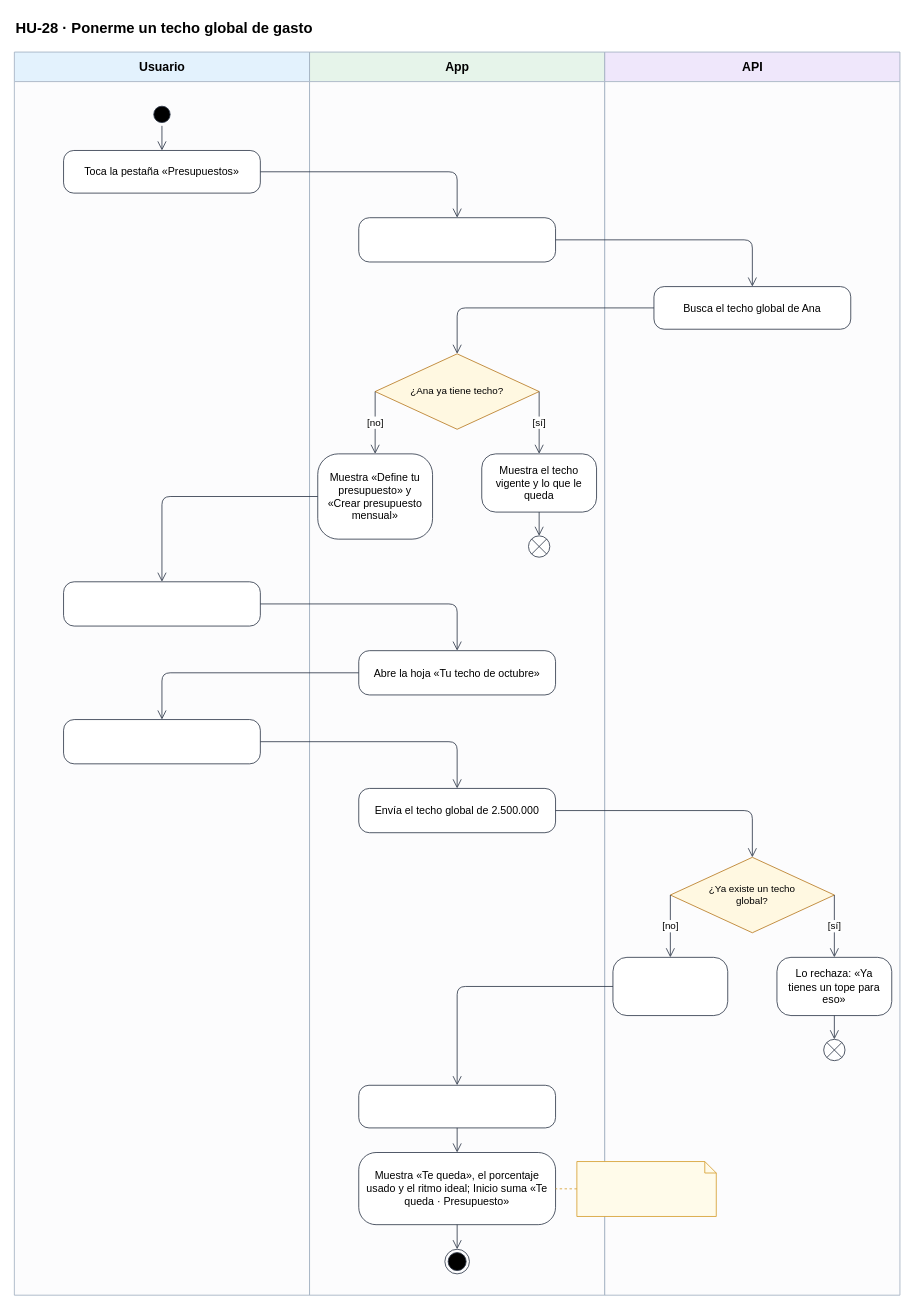
The diagram is 914 pixels wide and 1310 high, and some of its shapes have lost their labels. The shapes that lost their labels are listed below. From the top down, each one's centre as x and y in pixels, then its label:
At point (457, 239): "Pide el estado de los presupuestos".
At point (161, 603): "Toca «Crear presupuesto mensual»".
At point (161, 741): "Escribe 2.500.000 y toca «Guardar»".
At point (670, 986): "Guarda el techo, vigente desde este mes".
At point (457, 1106): "Actualiza las vistas de dinero".
At point (646, 1188): "El techo sigue vigente mes a mes hasta que Ana lo cambie".
